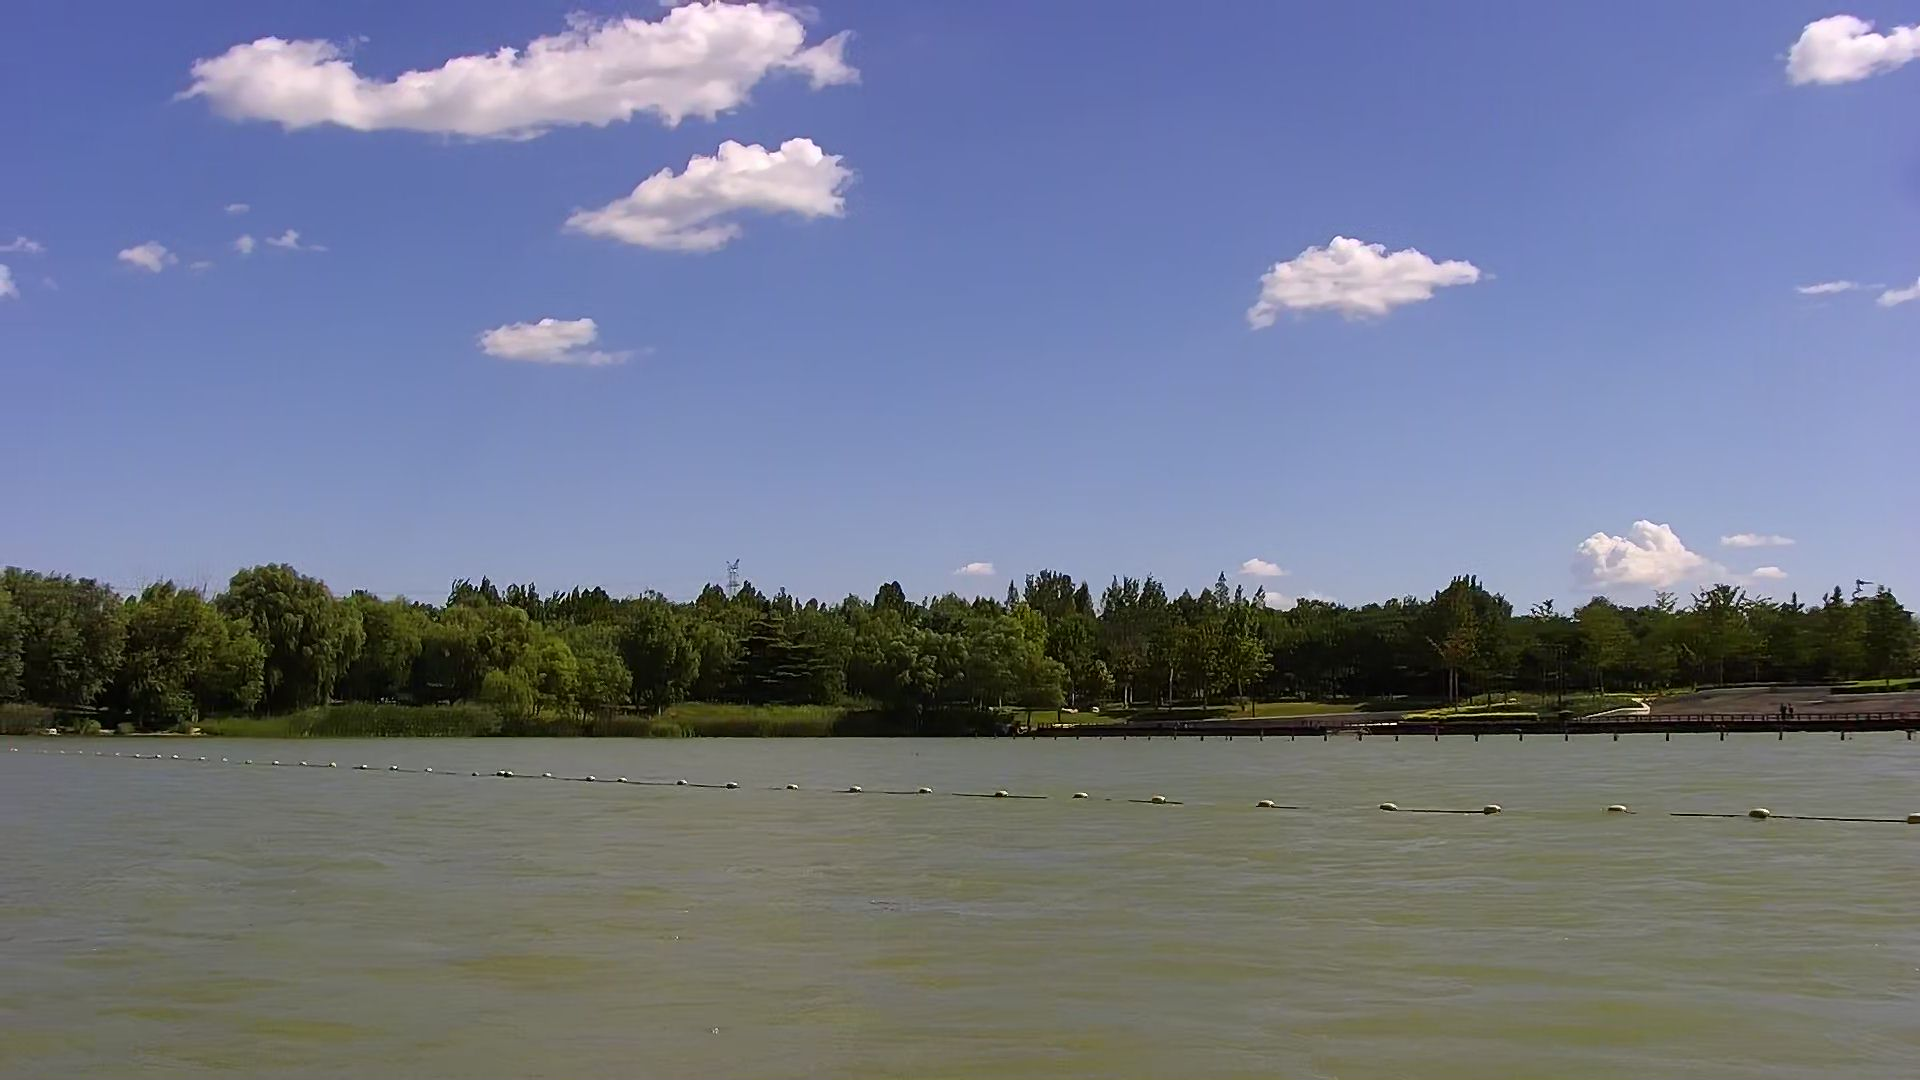ball: (1476, 793, 1523, 828), (1597, 793, 1639, 832), (1143, 775, 1178, 816), (1375, 786, 1408, 818), (1741, 798, 1778, 825), (1259, 786, 1283, 816)
